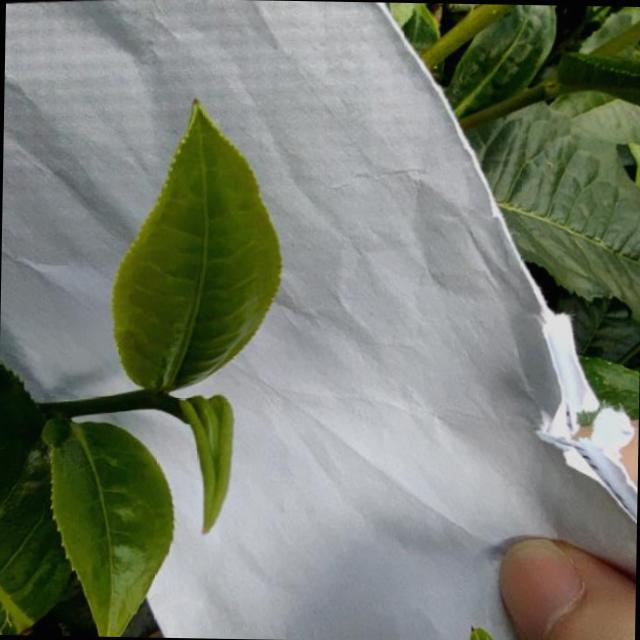Stem: (128, 390, 155, 407)
